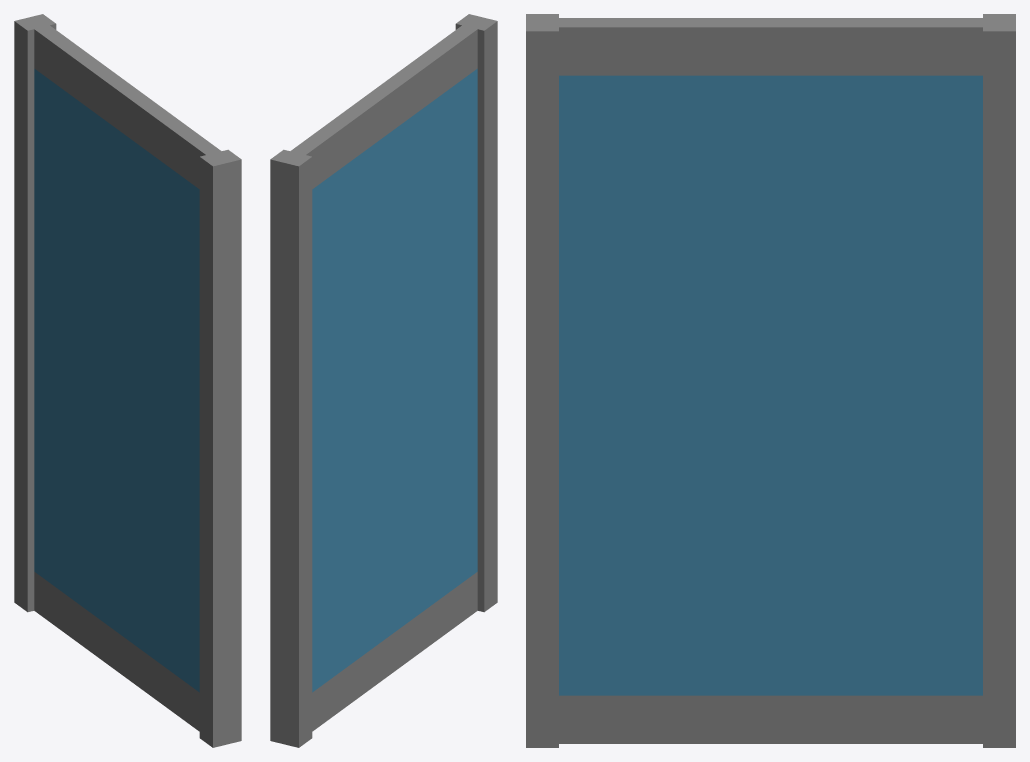
The model's file is wall_glass.fbx.
3 renders of one model, left to right at view 1: azimuth 30°, elevation 25°; view 2: azimuth 150°, elevation 25°; view 3: azimuth 270°, elevation 25°, orthographic. The views are drawn at different scales.
Visible parts, largest first — view 1: Cube.003; view 2: Cube.003; view 3: Cube.003.
Boxes of the visible parts, x1=… form: Cube.003: x1=14, y1=14, x2=241, y2=747; Cube.003: x1=270, y1=14, x2=497, y2=747; Cube.003: x1=526, y1=14, x2=1015, y2=747.
Bounding box in the file's own units: 43.78 × 849 × 526.
1 material, 1 textured.
